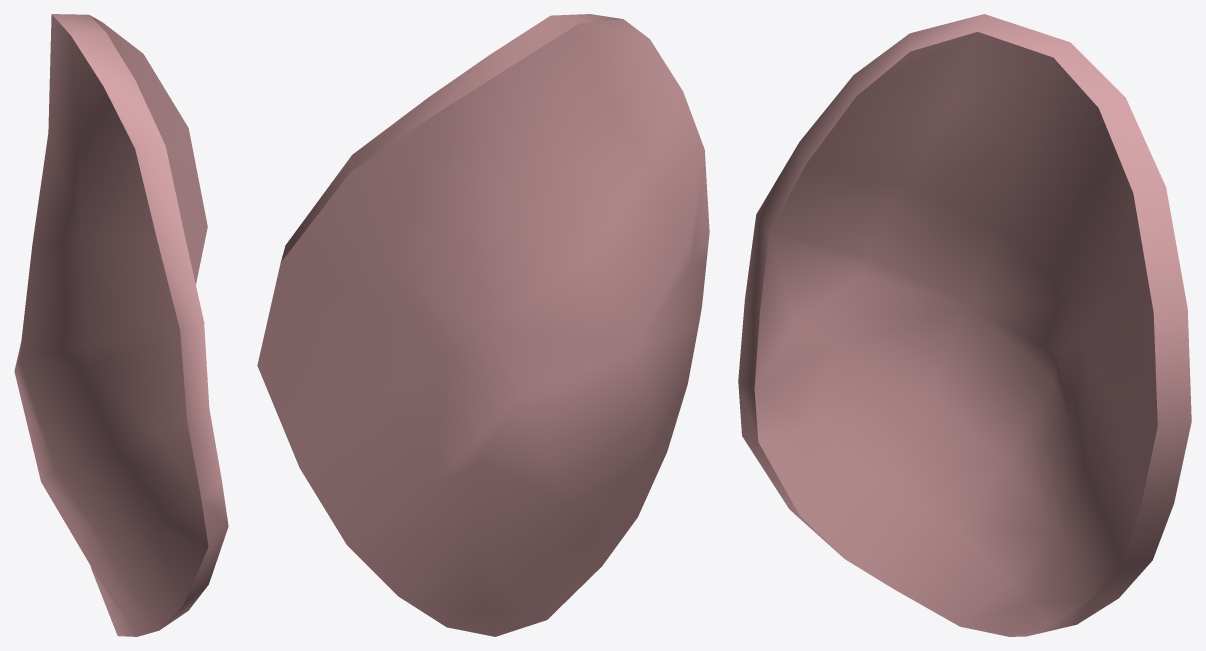
3 renders of one model, left to right at view 1: azimuth 30°, elevation 25°; view 2: azimuth 150°, elevation 25°; view 3: azimuth 270°, elevation 25°, orthographic. The views are drawn at different scales.
Parts seen in each view (by area): view 1: ZA_0dd302670c5bd259; view 2: ZA_0dd302670c5bd259; view 3: ZA_0dd302670c5bd259.
Part boxes in pixels (bbox=[...]): ZA_0dd302670c5bd259: bbox=[14, 14, 228, 636]; ZA_0dd302670c5bd259: bbox=[257, 14, 709, 636]; ZA_0dd302670c5bd259: bbox=[738, 14, 1191, 636].
Size of the model in its own units: 0.0257 by 0.0531 by 0.0368.
